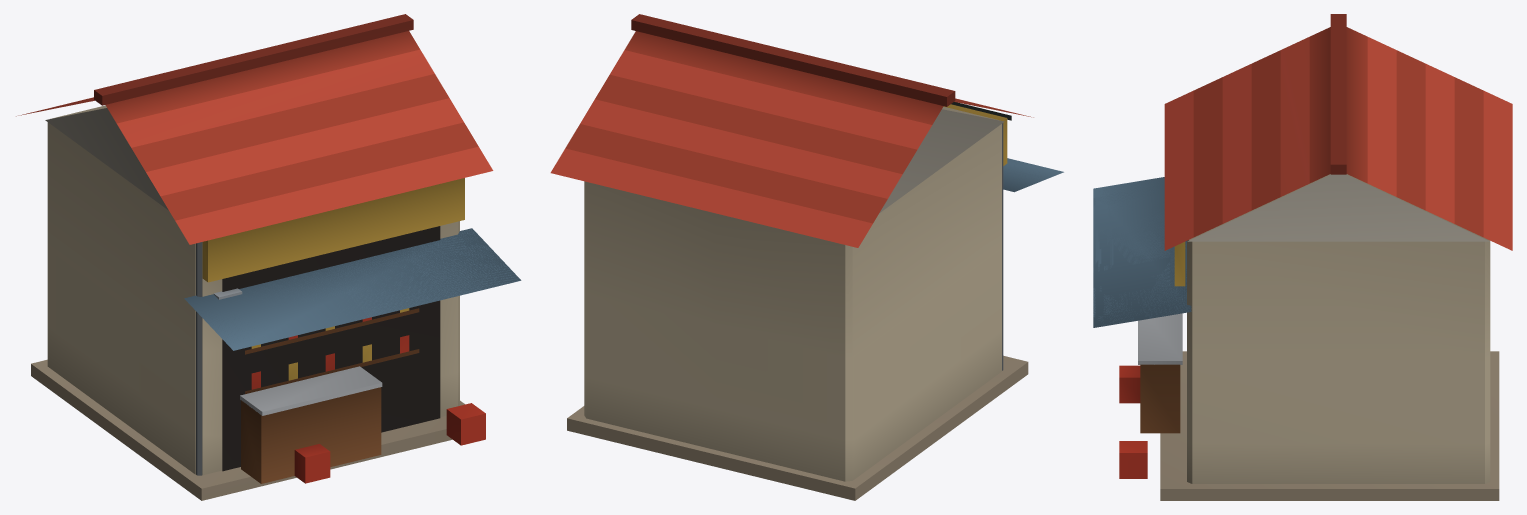
File: tiem-1-tang.glb
3 renders of one model, left to right at view 1: azimuth 30°, elevation 25°; view 2: azimuth 150°, elevation 25°; view 3: azimuth 270°, elevation 25°, orthographic. The views are drawn at different scales.
Visible parts, largest first — view 1: tiem-1-tang; view 2: tiem-1-tang; view 3: tiem-1-tang.
Boxes of the visible parts, bbox=[...] form: tiem-1-tang: bbox=[16, 14, 521, 500]; tiem-1-tang: bbox=[550, 14, 1063, 500]; tiem-1-tang: bbox=[1093, 14, 1512, 500].
Bounding box in the file's own units: 4 × 4.24 × 4.7.
